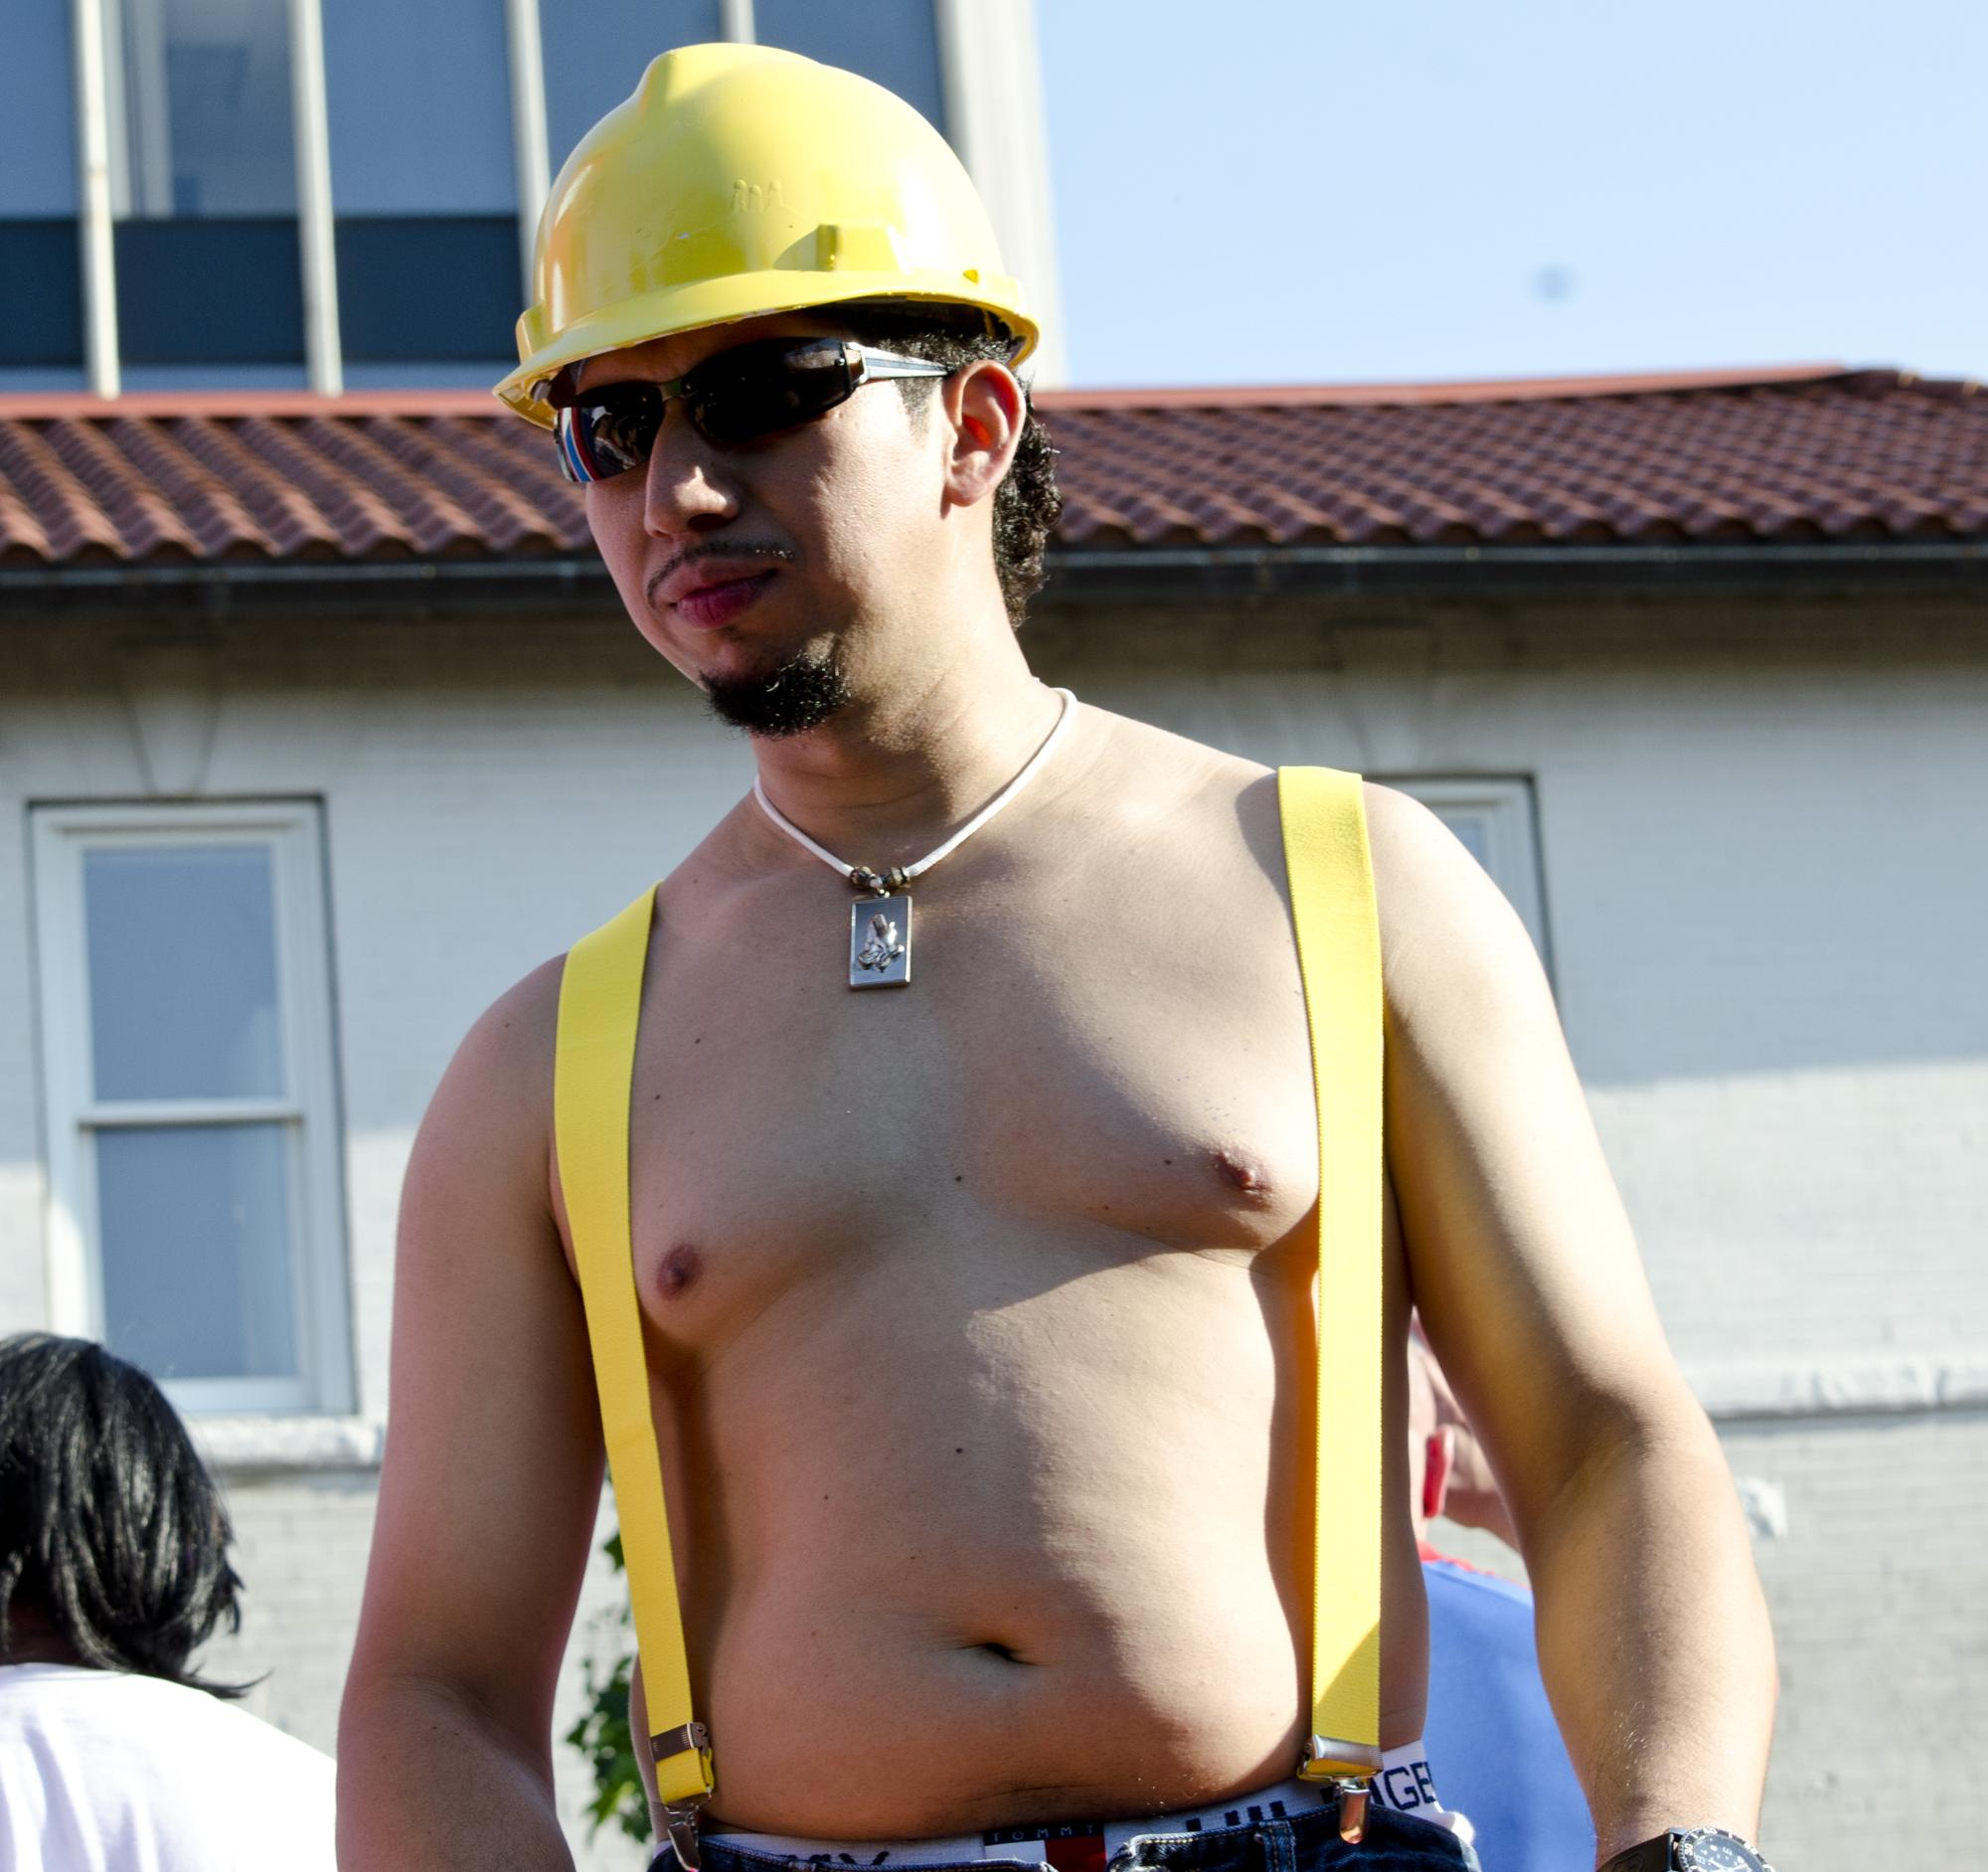helmet: (487, 40, 1054, 438)
